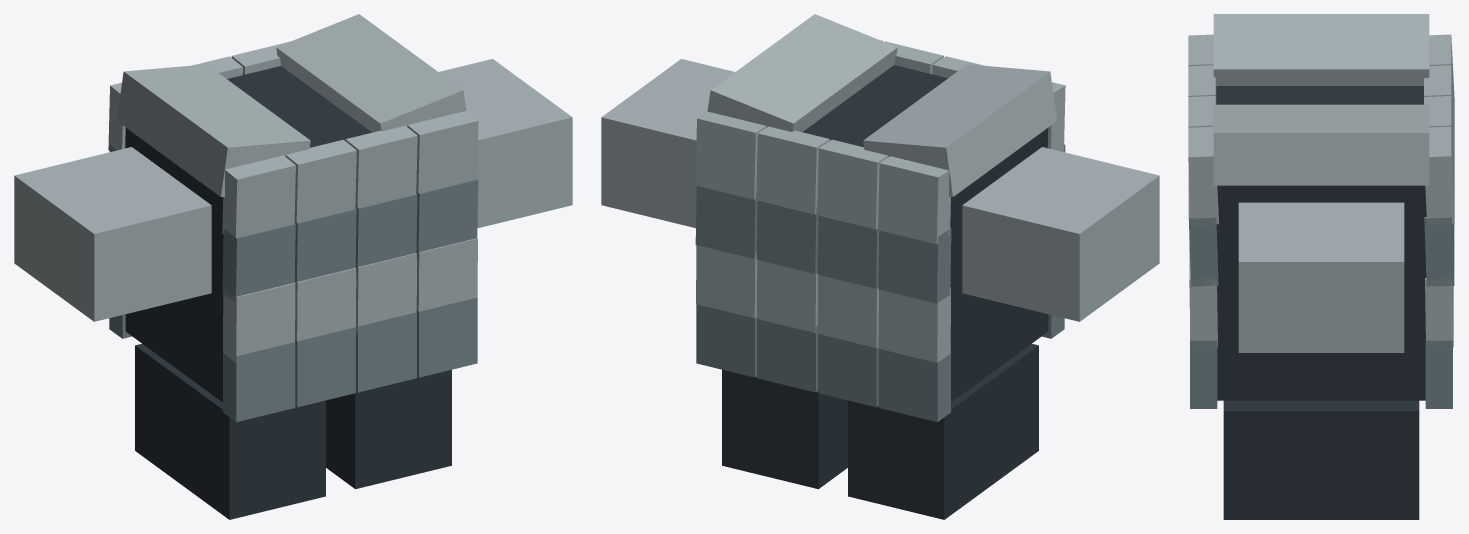
Rendered from fixed-brigandine-lod2.glb.
3 views of the same model, side by side, from view 1: azimuth 30°, elevation 25°; view 2: azimuth 150°, elevation 25°; view 3: azimuth 270°, elevation 25° (orthographic). The views are drawn at different scales.
Parts seen in each view (by area): view 1: piece_torso, piece_waist, piece_armR, piece_armL; view 2: piece_torso, piece_waist, piece_armR, piece_armL; view 3: piece_torso, piece_armL, piece_waist.
Part boxes in pixels (bbox=[...]): piece_torso: bbox=[108, 14, 478, 422]; piece_waist: bbox=[135, 344, 451, 519]; piece_armR: bbox=[14, 147, 211, 321]; piece_armL: bbox=[439, 59, 572, 228]; piece_torso: bbox=[695, 14, 1065, 422]; piece_waist: bbox=[722, 344, 1038, 519]; piece_armR: bbox=[962, 147, 1159, 321]; piece_armL: bbox=[601, 59, 734, 228]; piece_torso: bbox=[1188, 14, 1454, 408]; piece_armL: bbox=[1238, 202, 1404, 352]; piece_waist: bbox=[1223, 400, 1419, 519].
Bounding box in the file's own units: 1.14 × 0.8593 × 0.5317.
